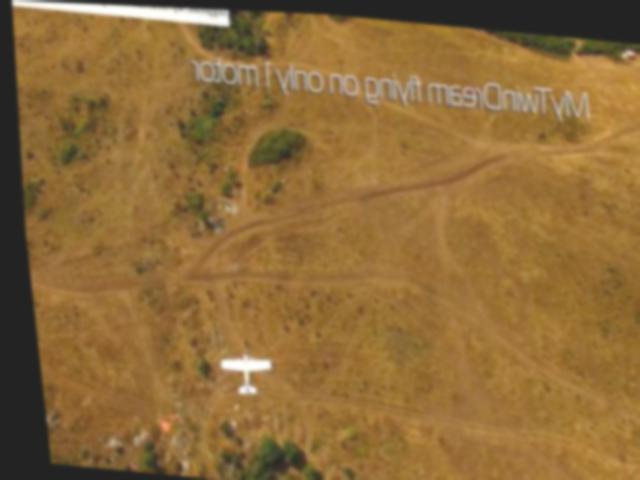uav: (198, 331, 274, 408)
